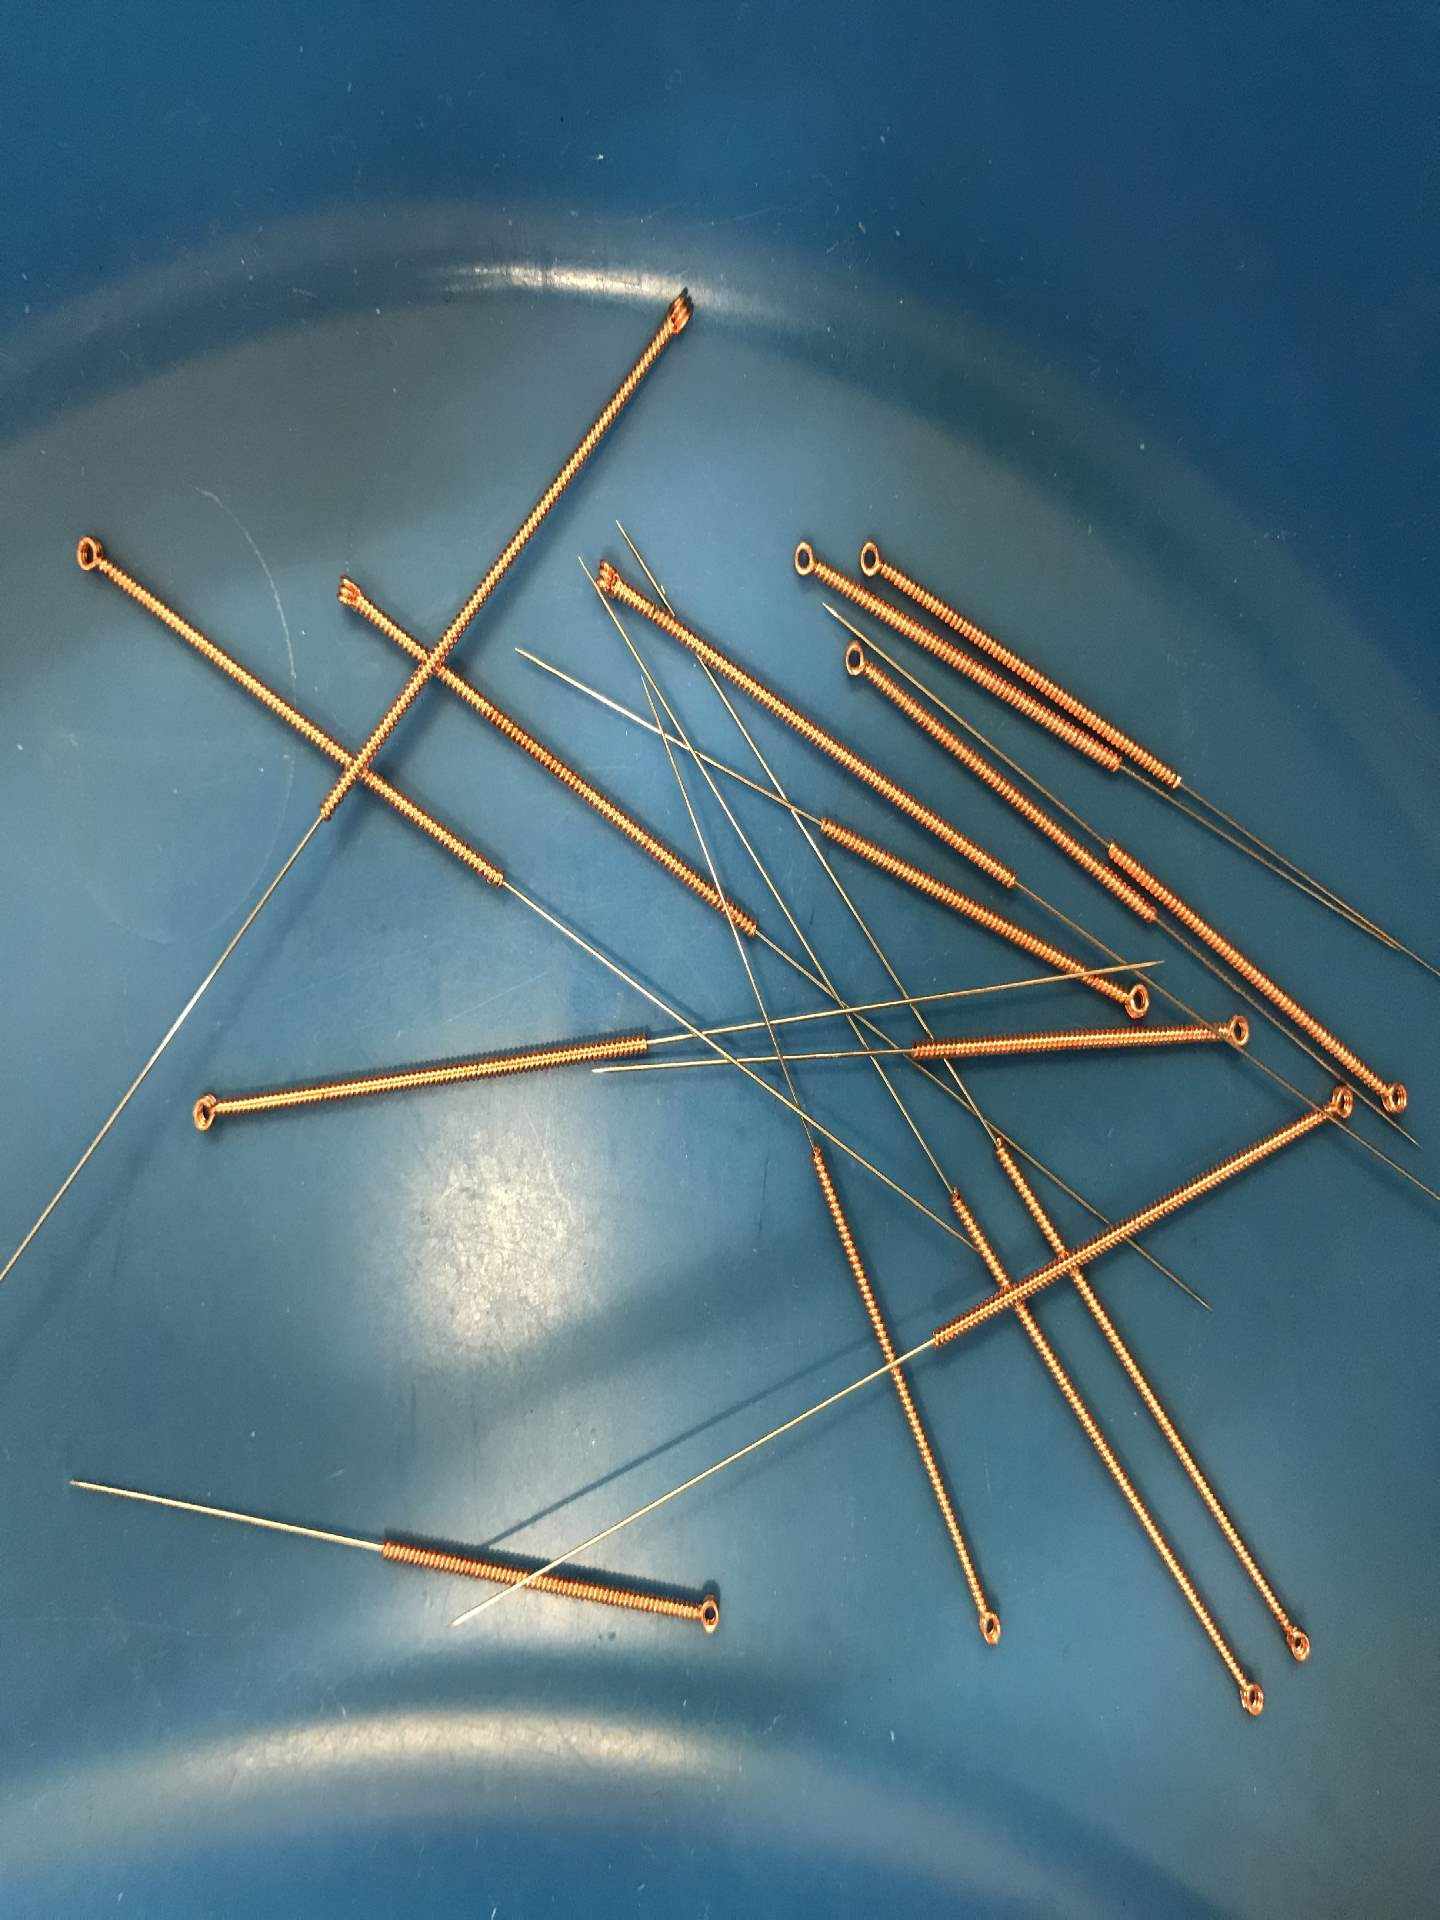needle: (670, 1578, 738, 1648), (646, 274, 705, 352), (56, 522, 124, 587), (1268, 1599, 1324, 1677), (319, 561, 383, 626), (174, 1082, 241, 1144), (1293, 1076, 1361, 1135), (826, 630, 886, 695), (777, 528, 835, 593), (1363, 1060, 1417, 1128), (1219, 1661, 1274, 1730), (964, 1587, 1013, 1661), (581, 546, 637, 611), (1196, 1008, 1262, 1060), (1103, 974, 1159, 1027), (855, 529, 906, 587)
